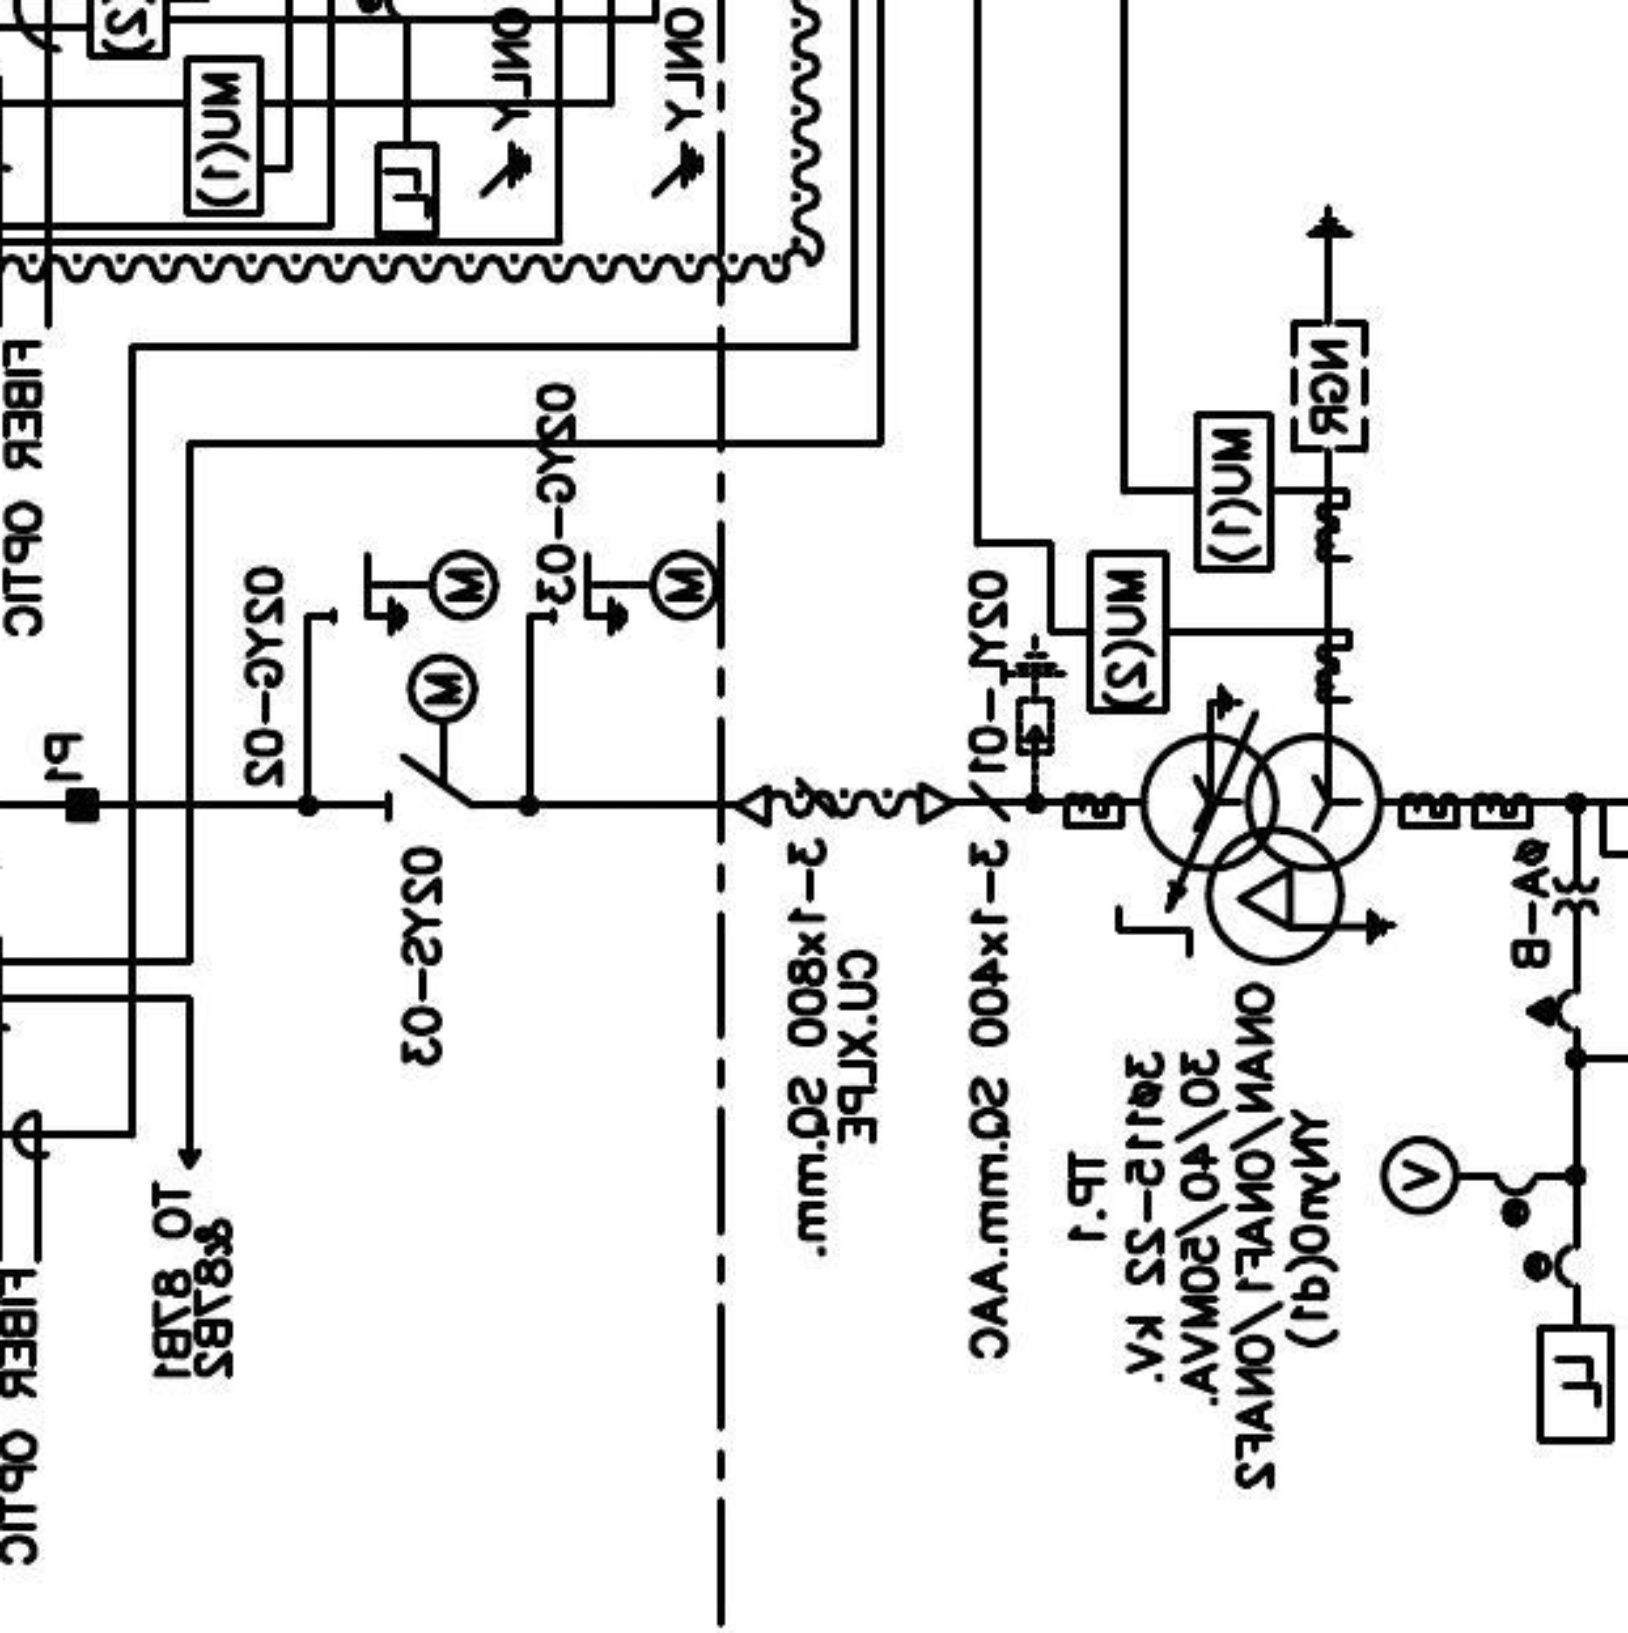11522_tx_ynyn0d1: (1138, 729, 1386, 969)
115_1way_ds_w_motor: (383, 649, 482, 823)
115_gs_w_motor: (329, 547, 502, 640), (549, 546, 722, 638)
LL: (1534, 1321, 1616, 1447), (373, 140, 441, 239)
MU: (1085, 550, 1172, 716), (182, 54, 267, 219), (1191, 409, 1276, 574)
NGR_future: (1287, 201, 1372, 455)
terminator_single: (729, 781, 774, 831), (914, 778, 959, 828)
v_m: (1378, 1132, 1463, 1218)
